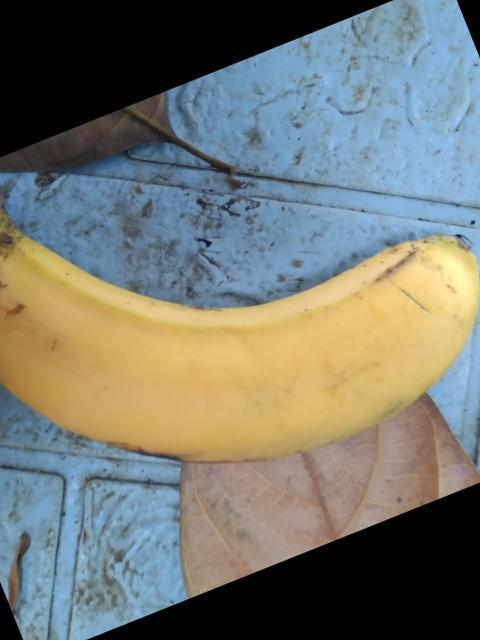freshripe: (0, 219, 466, 481)
